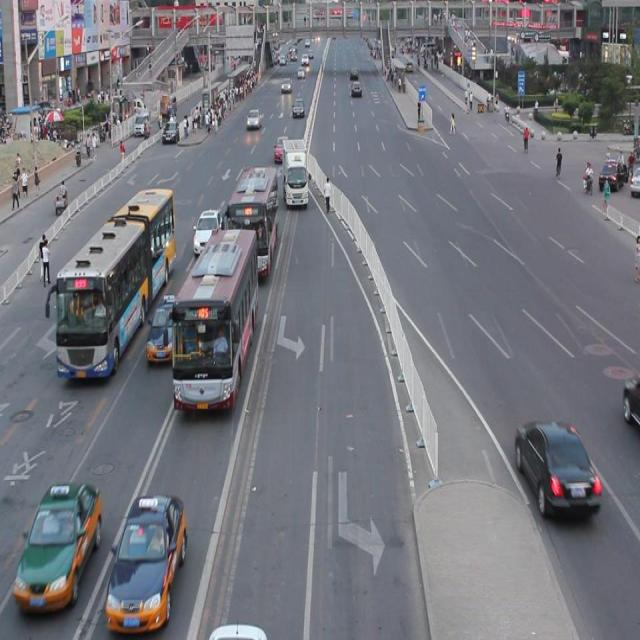bus: (282, 139, 310, 208)
car: (15, 479, 104, 608), (106, 493, 188, 628), (515, 417, 598, 519), (145, 294, 181, 364), (193, 210, 221, 254), (622, 378, 640, 430), (274, 134, 290, 162)
van: (47, 188, 175, 380), (171, 226, 258, 408), (228, 168, 280, 279)
